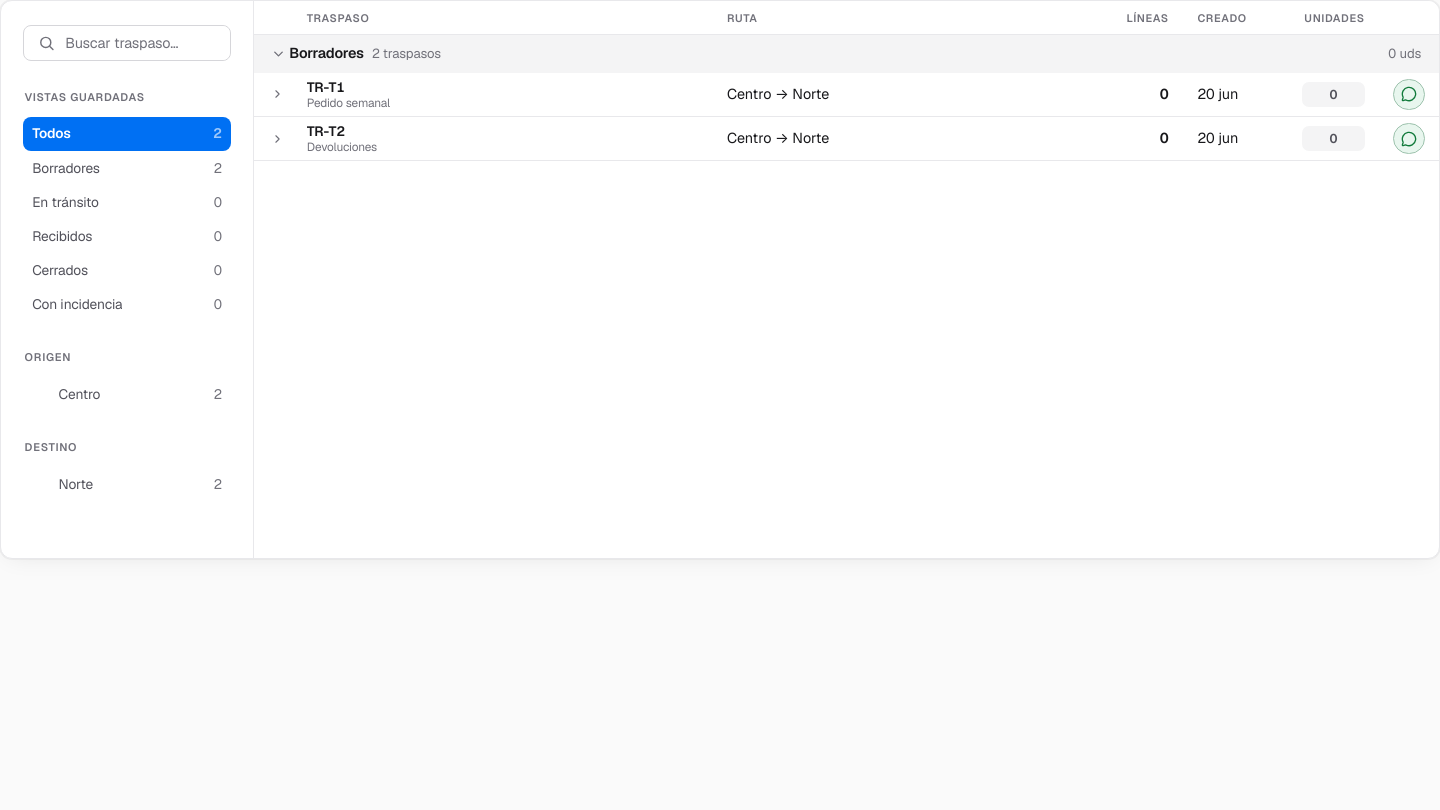
TransfersSection — nombre, buscador y fallback › filtra la lista por el buscador (data-testid transfers-search)
The width and height of the screenshot is (1440, 810).
Expected: the text "Pedido semanal" is shown, [307, 95, 390, 110]
Expected: the number of rows with test id "transfer-row" is 2, [254, 73, 1439, 117]; [254, 117, 1439, 161]
Type "semanal" into the field with test id "transfers-search". click: [127, 43]
box: [23, 25, 231, 61]
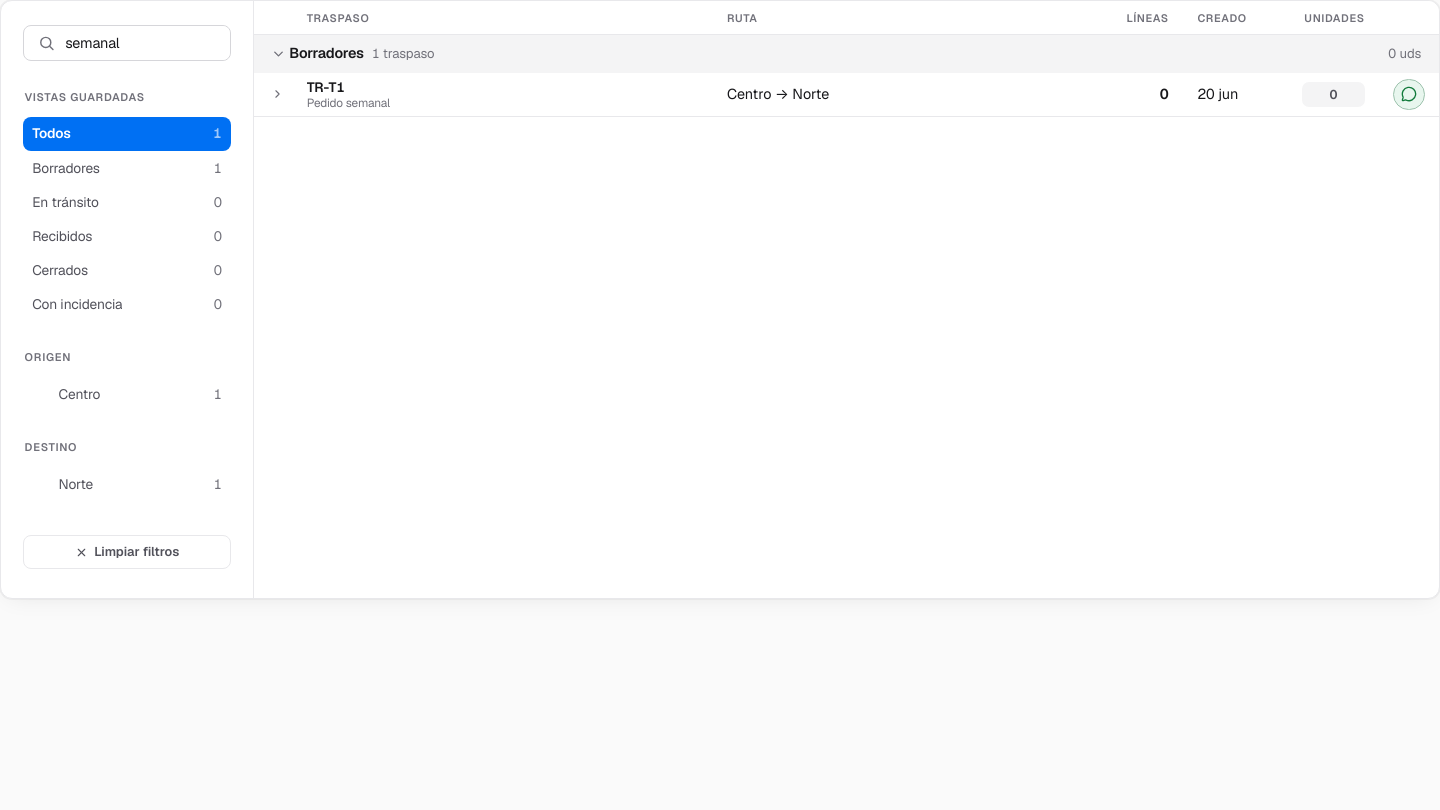
Expected: the text "Pedido semanal" is shown, [307, 95, 390, 110]
Expected: the number of rows with test id "transfer-row" is 1, [254, 73, 1439, 117]
Expected: the text "Devoluciones" is gone
